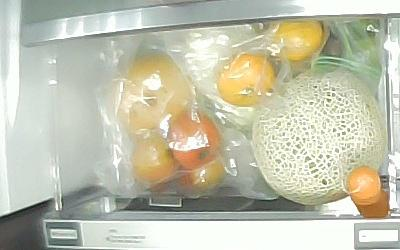carrot: (345, 164, 390, 218)
melon: (254, 65, 388, 205)
pear_vinyl: (113, 51, 188, 131)
prune_vinyl: (132, 136, 175, 184), (179, 159, 224, 197)
tangerine_vinyl: (217, 54, 275, 106), (273, 21, 324, 60)
tomato_vinyl: (168, 112, 219, 169)
